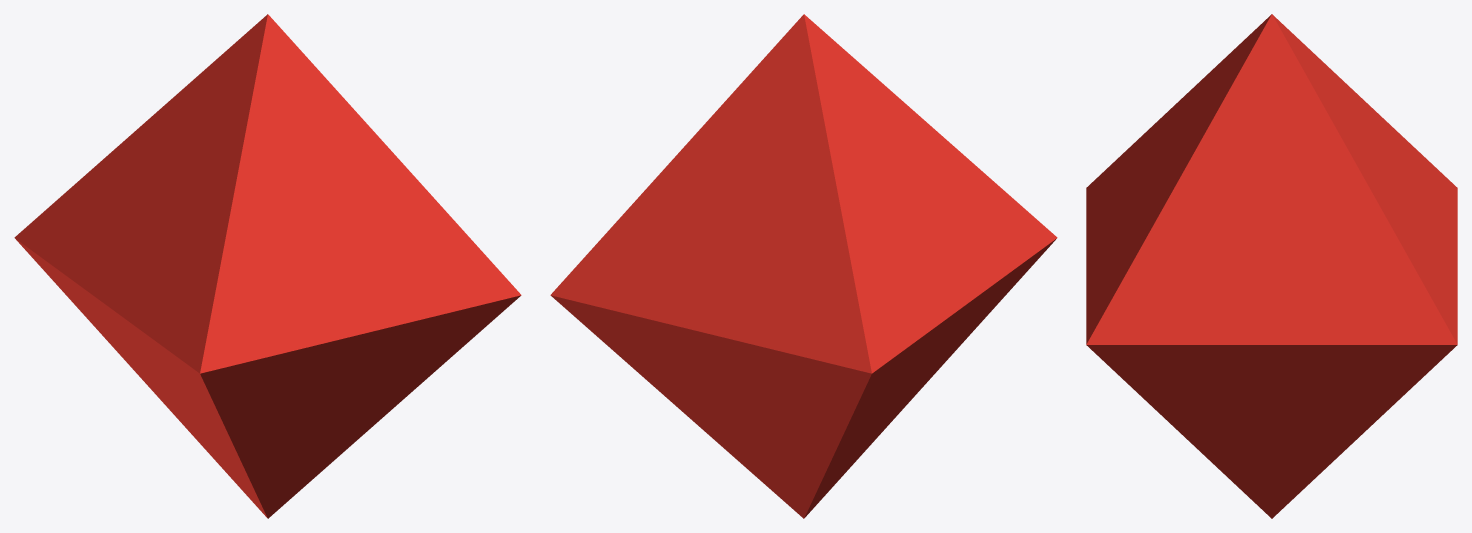
Rendered from Missile2.fbx.
3 renders of one model, left to right at view 1: azimuth 30°, elevation 25°; view 2: azimuth 150°, elevation 25°; view 3: azimuth 270°, elevation 25°, orthographic.
Parts seen in each view (by area): view 1: Plane; view 2: Plane; view 3: Plane.
Boxes of the visible parts, x1,y1,x2,y2 form: Plane: (14, 14, 521, 518); Plane: (550, 14, 1057, 518); Plane: (1086, 14, 1457, 518).
Bounding box in the file's own units: 200 × 300 × 200.
